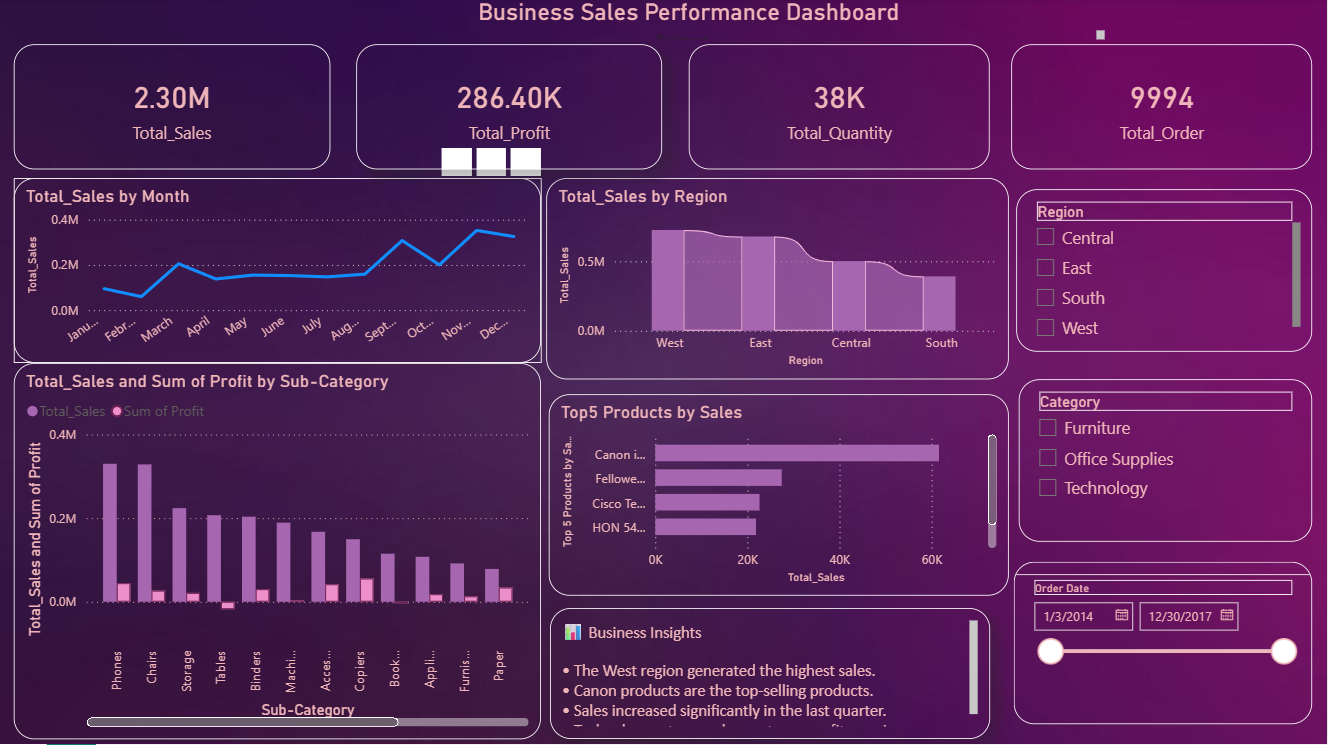

Layout of this report page (visuals, bound fields, positions):
{"tool":"powerbi","page":{"name":"Page 1","canvas":[1280,720],"ordinal":0},"visuals":[{"type":"clusteredColumnChart","fields":{"Y":["Sample - Superstore.Total_Sales","Sum(Sample - Superstore.Profit)"],"Category":["Sample - Superstore.Sub-Category"]},"box":[13.3,352.3,509.1,363.1],"z":0},{"type":"clusteredBarChart","title":"Top5 Products by Sales","fields":{"Category":["Sample - Superstore.Product Name"],"Y":["Sample - Superstore.Total_Sales"]},"box":[529.6,382.4,444,194.2],"z":1000},{"type":"textbox","title":"Business Sales Performance Dashboard","box":[258.2,0,813.1,44.6],"z":2000},{"type":"lineChart","fields":{"Category":["Sample - Superstore.Order Date.Variation.Date Hierarchy.Month"],"Y":["Sample - Superstore.Total_Sales"]},"box":[13.3,173.7,509.1,178.6],"z":3000},{"type":"ribbonChart","fields":{"Category":["Sample - Superstore.Region"],"Y":["Sample - Superstore.Total_Sales"]},"box":[527.2,173.7,446.4,194.2],"z":4000},{"type":"slicer","fields":{"Values":["Sample - Superstore.Region"]},"box":[980.8,184.6,285.9,156.8],"z":5000},{"type":"slicer","fields":{"Values":["Sample - Superstore.Category"]},"box":[983.2,368,283.5,156.8],"z":6000},{"type":"slicer","fields":{"Values":["Sample - Superstore.Order Date"]},"box":[978.4,544.1,288.3,156.8],"z":7000},{"type":"card","fields":{"Values":["Sample - Superstore.Total_Quantity"]},"box":[664.7,44.6,290.8,120.6],"z":8000},{"type":"card","fields":{"Values":["Sample - Superstore.Total_Profit"]},"box":[343.8,44.6,295.6,120.6],"z":9000},{"type":"card","fields":{"Values":["Sample - Superstore.Total_Sales"]},"box":[13.3,44.6,305.2,120.6],"z":10000},{"type":"card","fields":{"Values":["Sample - Superstore.Total_Order"]},"box":[976,44.6,290.8,120.6],"z":11000},{"type":"textbox","box":[530.8,588.7,424.7,126.7],"z":11001}]}

Visuals, with their boxes in screenshot pixels (x1, y1, x2, y2), scaled from the page's 1280x720 canvas onto the 1328x745 screenshot:
clusteredColumnChart - Sample - Superstore.Total_Sales x Sum(Sample - Superstore.Profit): <region>14, 365, 542, 740</region>
"Top5 Products by Sales" clusteredBarChart: <region>549, 396, 1010, 597</region>
"Business Sales Performance Dashboard" textbox: <region>268, 0, 1111, 46</region>
lineChart - Sample - Superstore.Order Date.Variation.Date Hierarchy.Month x Sample - Superstore.Total_Sales: <region>14, 180, 542, 365</region>
ribbonChart - Sample - Superstore.Region x Sample - Superstore.Total_Sales: <region>547, 180, 1010, 381</region>
slicer - Sample - Superstore.Region: <region>1018, 191, 1314, 353</region>
slicer - Sample - Superstore.Category: <region>1020, 381, 1314, 543</region>
slicer - Sample - Superstore.Order Date: <region>1015, 563, 1314, 725</region>
card - Sample - Superstore.Total_Quantity: <region>690, 46, 991, 171</region>
card - Sample - Superstore.Total_Profit: <region>357, 46, 663, 171</region>
card - Sample - Superstore.Total_Sales: <region>14, 46, 330, 171</region>
card - Sample - Superstore.Total_Order: <region>1013, 46, 1314, 171</region>
textbox: <region>551, 609, 991, 740</region>
